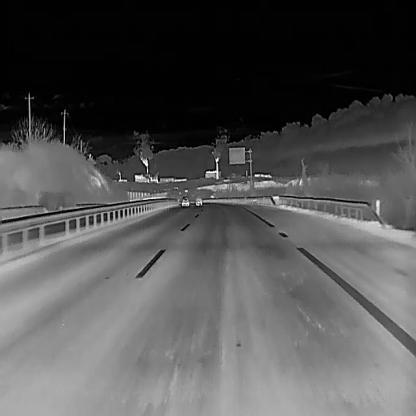car: (194, 194, 202, 206), (181, 195, 189, 206)
